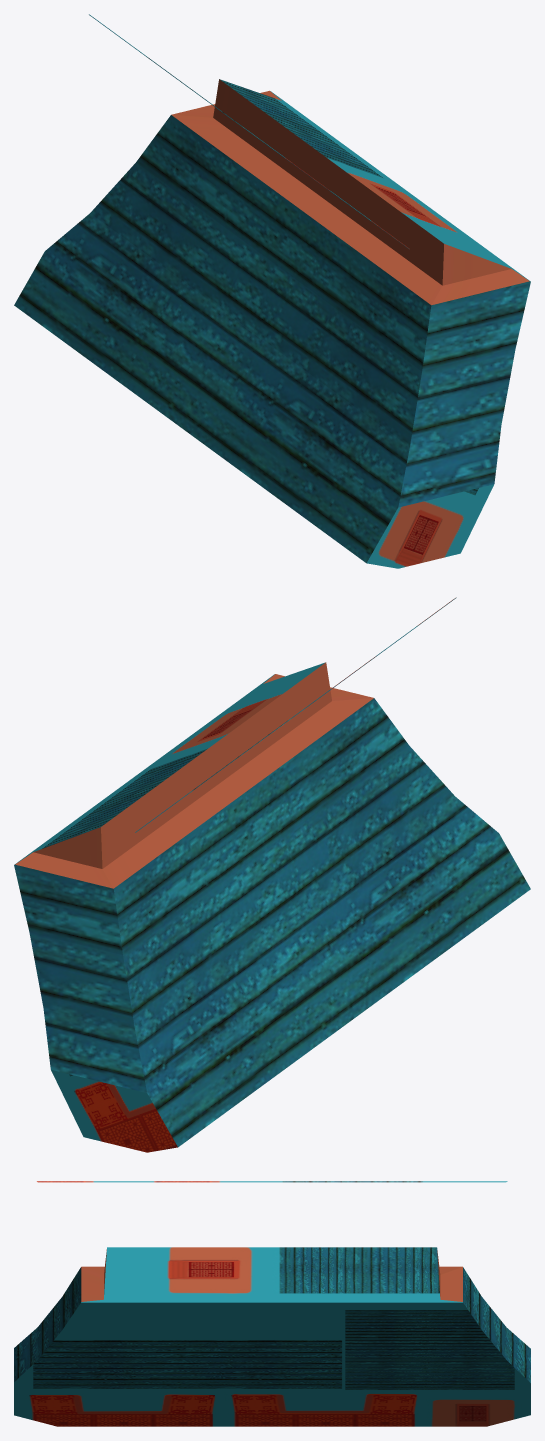
Rendered from borkertower05.FBX.
3 renders of one model, top to bottom at view 1: azimuth 30°, elevation 25°; view 2: azimuth 150°, elevation 25°; view 3: azimuth 270°, elevation 25°, orthographic. The views are drawn at different scales.
Parts seen in each view (by area): view 1: Box010; view 2: Box010; view 3: Box010.
Part boxes in pixels (x1,y1,x2,y2): Box010: (14, 14, 530, 568); Box010: (14, 597, 530, 1152); Box010: (14, 1181, 530, 1426).
Bounding box in the file's own units: 19.97 × 29.31 × 58.01.
